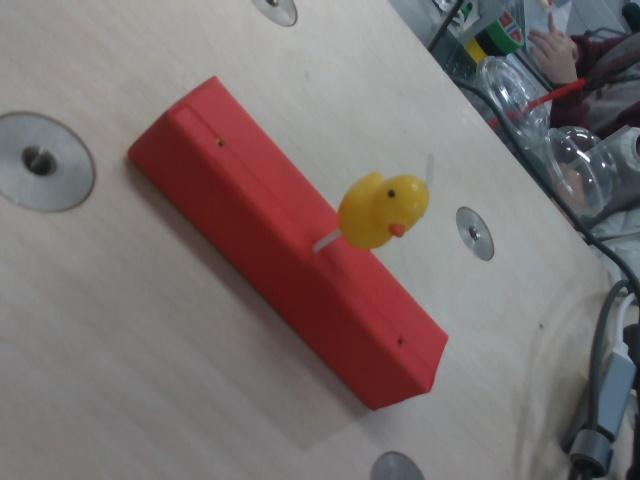y_duck: (301, 153, 450, 260)
